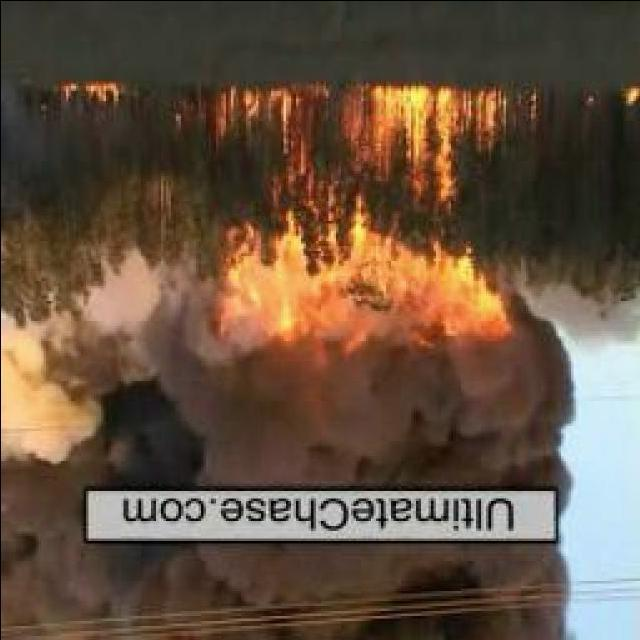Fire: (198, 88, 510, 344), (46, 80, 122, 100), (618, 80, 640, 108)
